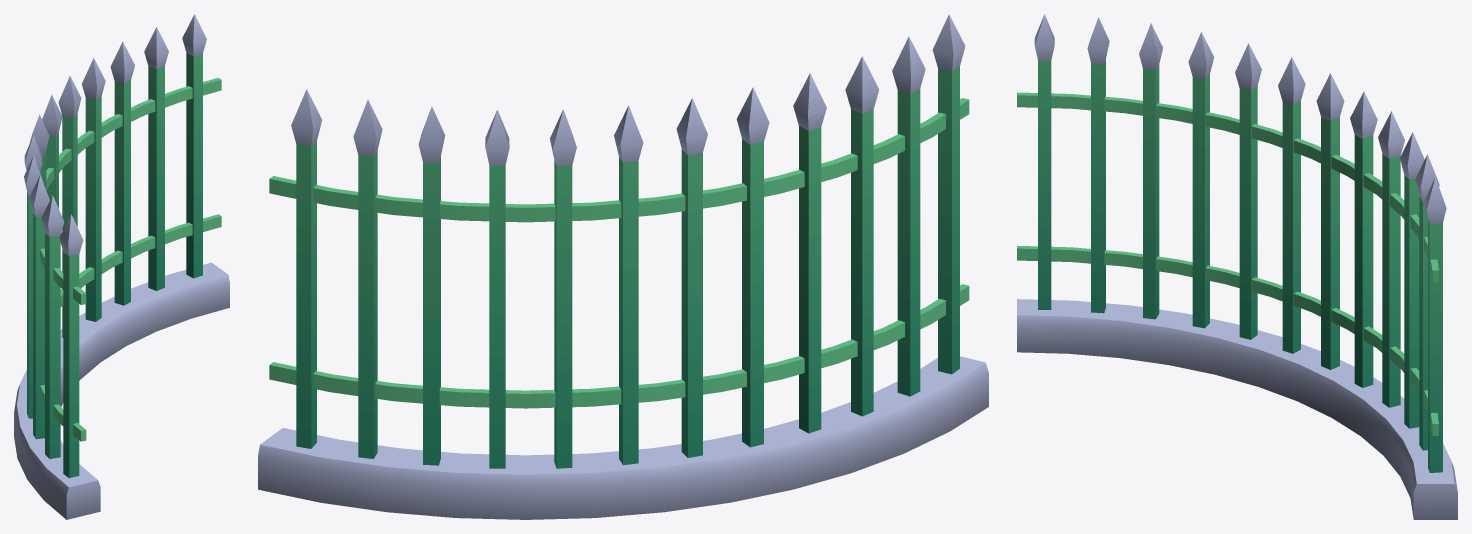
File: iron-fence-border-curve.glb
3 views of the same model, side by side, from view 1: azimuth 30°, elevation 25°; view 2: azimuth 150°, elevation 25°; view 3: azimuth 270°, elevation 25° (orthographic). The views are drawn at different scales.
Visible parts, largest first — view 1: Asset3DLoader.sceneRoot; view 2: Asset3DLoader.sceneRoot; view 3: Asset3DLoader.sceneRoot.
Boxes of the visible parts, x1=… form: Asset3DLoader.sceneRoot: x1=14, y1=14, x2=229, y2=519; Asset3DLoader.sceneRoot: x1=258, y1=14, x2=988, y2=519; Asset3DLoader.sceneRoot: x1=1017, y1=14, x2=1457, y2=519.
Size of the model in its own units: 1 by 0.8239 by 1.
Materials: 1 (1 with a texture image).
